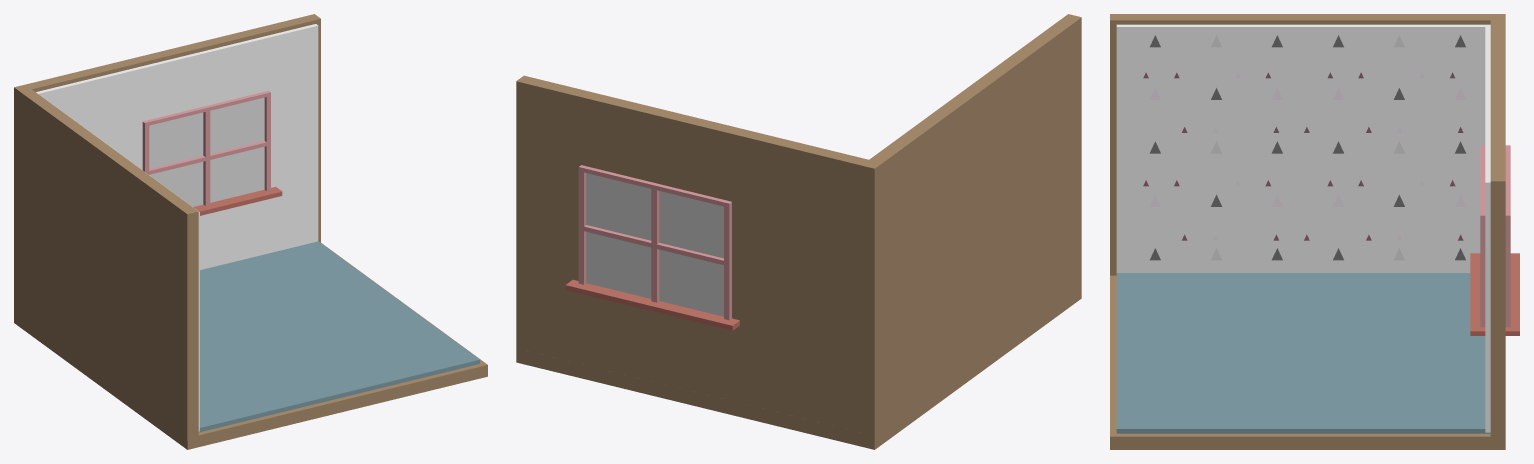
Rendered from Furn5_wall_floor_color3.fbx.
3 renders of one model, left to right at view 1: azimuth 30°, elevation 25°; view 2: azimuth 150°, elevation 25°; view 3: azimuth 270°, elevation 25°, orthographic. The views are drawn at different scales.
Parts seen in each view (by area): view 1: Куб.331, Куб.330, Куб.332, Куб.333; view 2: Куб.331, Куб.332, Куб.330, Куб.333; view 3: Куб.331, Куб.330, Окружность.100, Куб.332, Куб.333.
Boxes of the visible parts, x1,y1,x2,y2 form: Куб.331: (14,14,320,440); Куб.330: (14,241,487,449); Куб.332: (142,90,270,206); Куб.333: (193,187,282,215); Куб.331: (516,14,1081,439); Куб.332: (578,165,731,320); Куб.330: (516,288,1081,449); Куб.333: (565,279,739,330); Куб.331: (1110,14,1505,439); Куб.330: (1110,273,1505,449); Окружность.100: (1143,35,1466,260); Куб.332: (1480,145,1510,327); Куб.333: (1470,253,1519,335).
Size of the model in its own units: 911 by 682 by 943.
